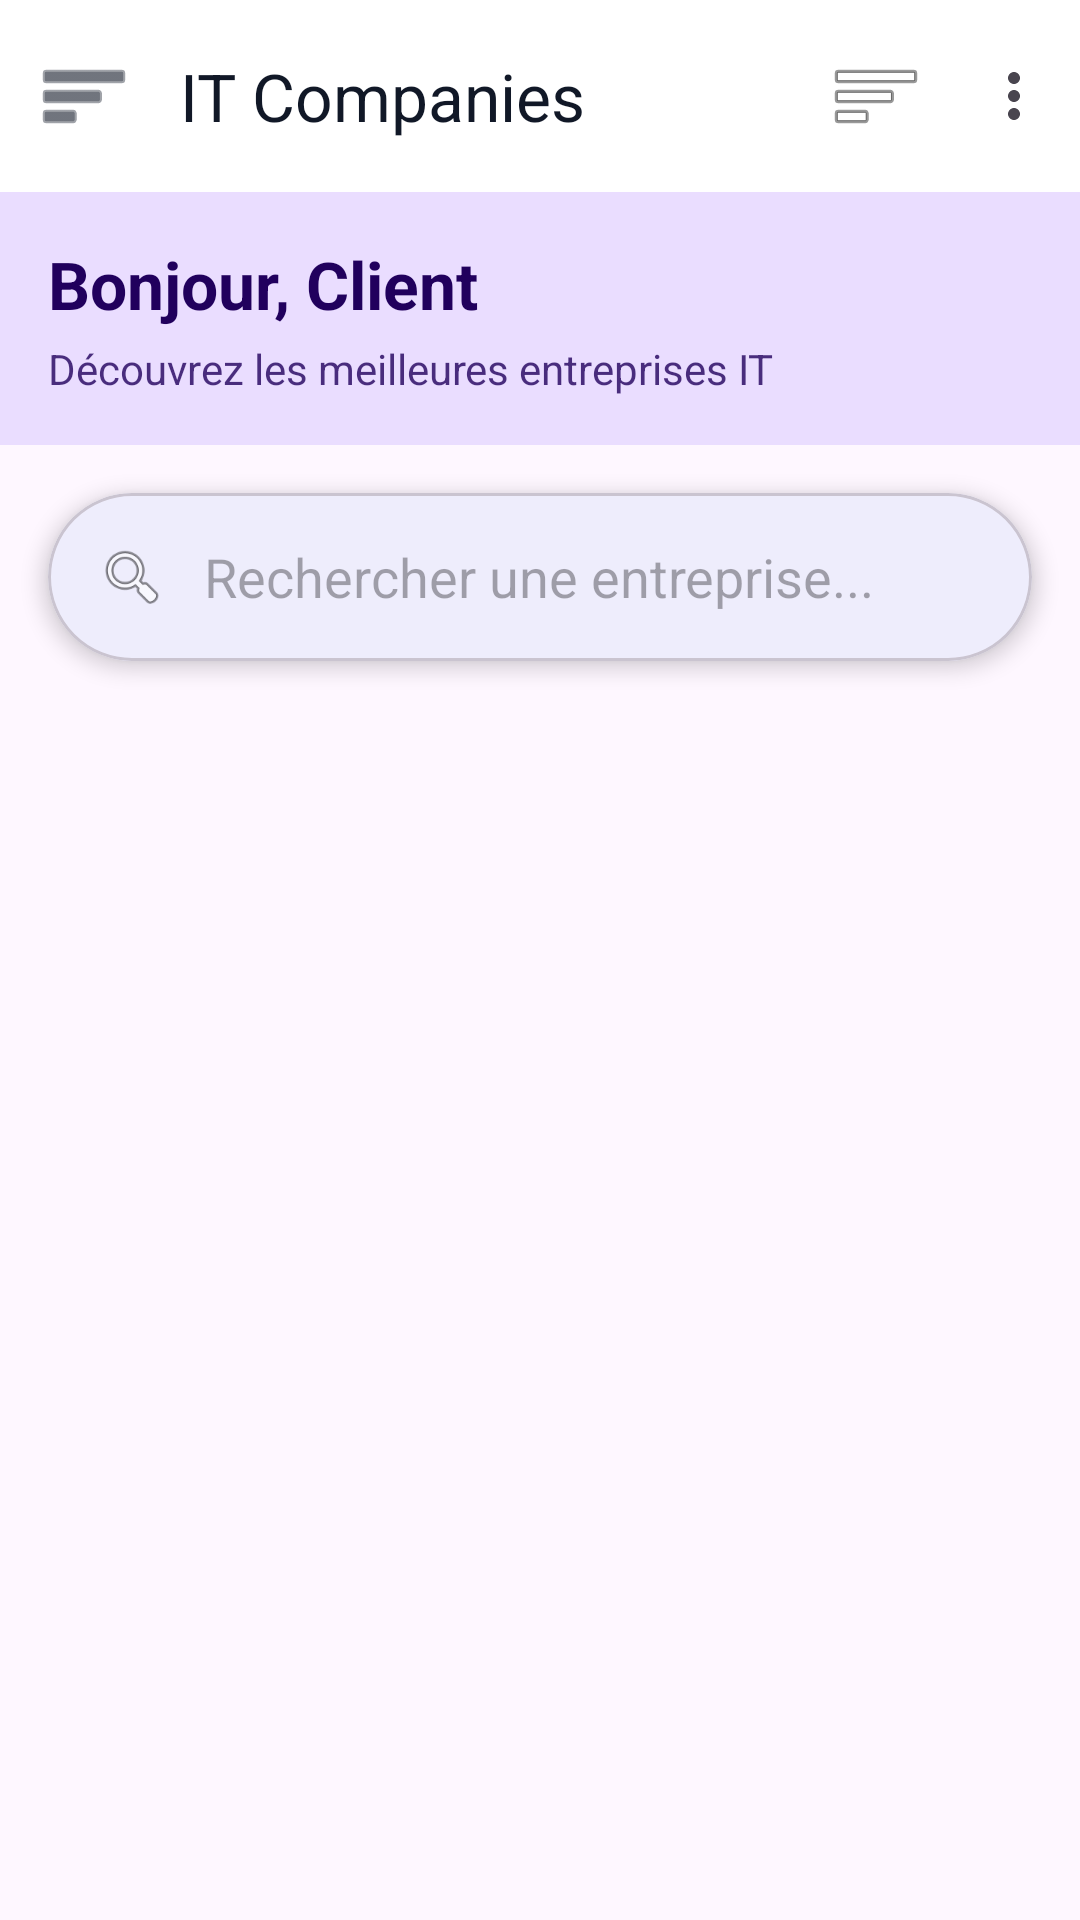

Icons on this 1080w x 1920h Android screen, each with the point to tap as [x,y]:
search: [132,577]
